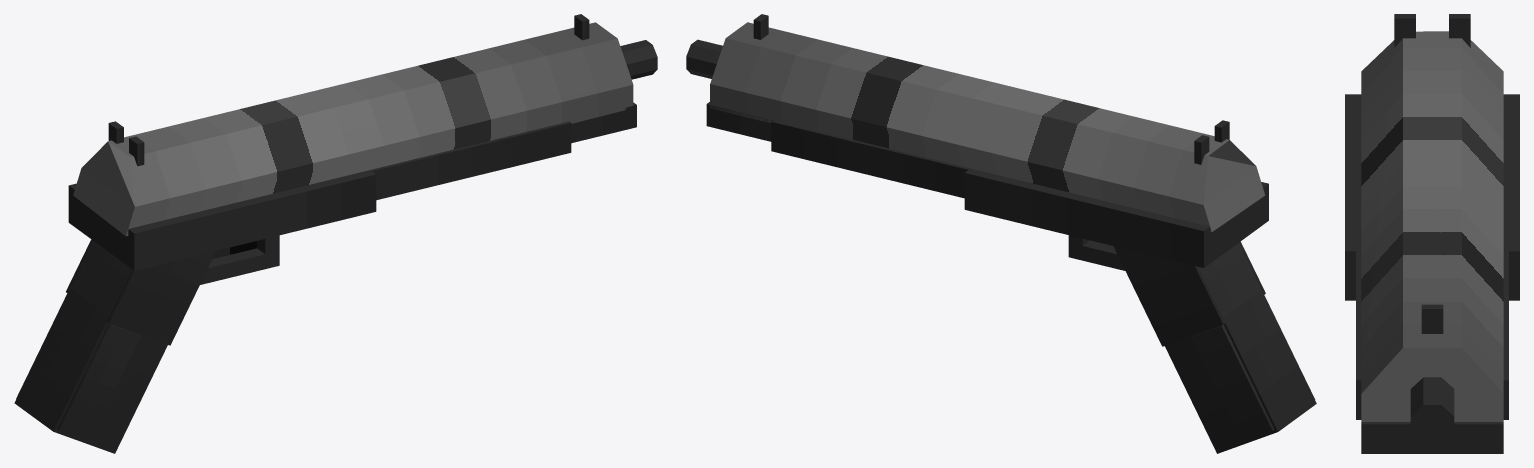
The model's file is glock.obj.
3 renders of one model, left to right at view 1: azimuth 30°, elevation 25°; view 2: azimuth 150°, elevation 25°; view 3: azimuth 270°, elevation 25°, orthographic. The views are drawn at different scales.
Parts seen in each view (by area): view 1: cylinder, cube; view 2: cylinder, cube; view 3: cylinder, cube.
Boxes of the visible parts, x1=… form: cylinder: x1=73, y1=22, x2=657, y2=236; cube: x1=14, y1=14, x2=636, y2=453; cylinder: x1=686, y1=22, x2=1265, y2=232; cube: x1=706, y1=14, x2=1316, y2=453; cylinder: x1=1361, y1=31, x2=1503, y2=444; cube: x1=1345, y1=14, x2=1519, y2=453.
Size of the model in its own units: 1.08 by 0.514 by 0.2.
5 materials, 4 textured.
